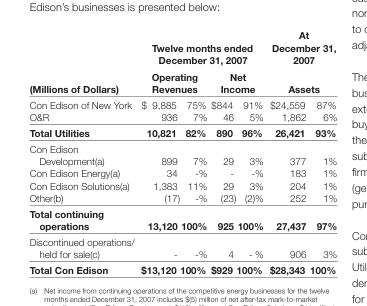table: (28, 28, 336, 274)
table column: (28, 28, 137, 274), (137, 28, 179, 274), (265, 28, 307, 274), (235, 28, 265, 274), (179, 28, 208, 274), (307, 28, 336, 274), (208, 28, 235, 274)
table column header: (28, 28, 336, 110)
table row: (28, 28, 336, 67), (28, 67, 336, 96), (28, 205, 336, 233), (28, 233, 336, 261), (28, 140, 336, 166), (28, 124, 336, 140), (28, 96, 336, 110), (28, 110, 336, 124), (28, 191, 336, 205), (28, 178, 336, 191), (28, 261, 336, 274), (28, 166, 336, 178)
table spanning cell: (28, 28, 137, 110), (137, 28, 265, 67), (265, 28, 336, 96), (137, 67, 208, 96), (208, 67, 265, 96)
